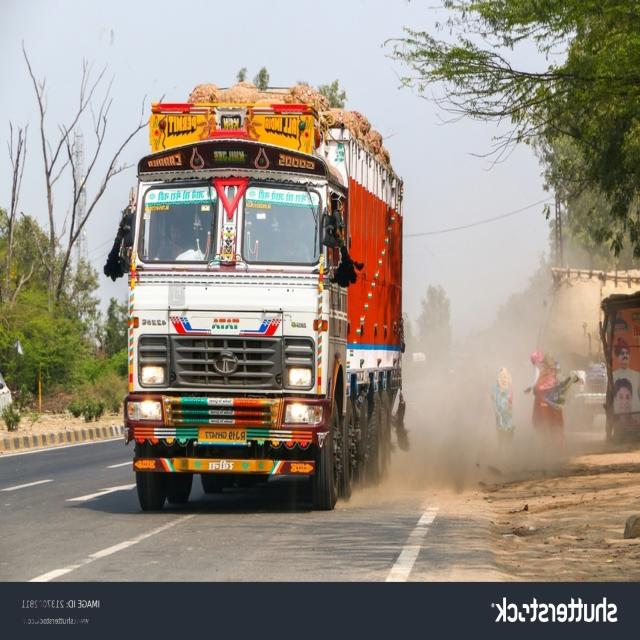truck: (110, 90, 404, 508)
